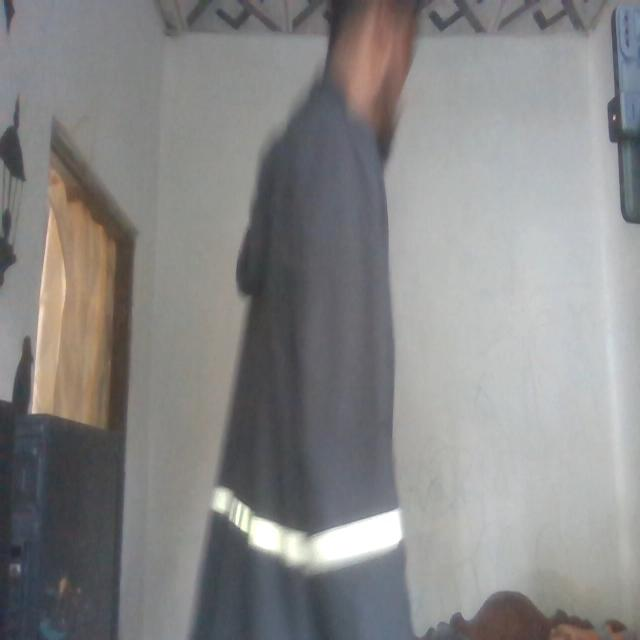Jacket_Wearer: (207, 98, 416, 640)
Person: (196, 0, 450, 640)
